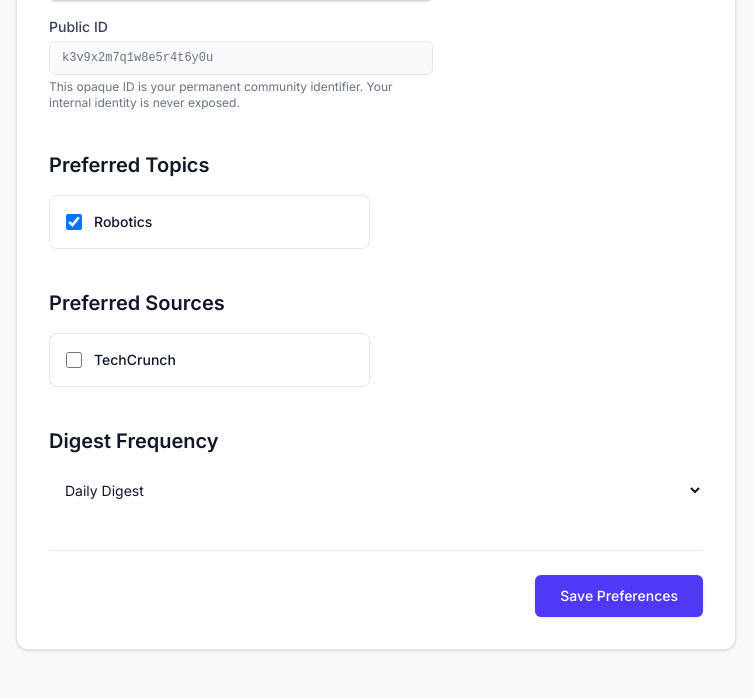
Settings community profile › saves preferences without a profile update when the display name is unchanged
The image size is (753, 698).
(page scrolled)
Expected: the heading "Preferred Topics" is shown, [49,153,210,177]
Click the button "Save Preferences". click: (619, 596)
box: [535,575,703,617]
(page scrolled)
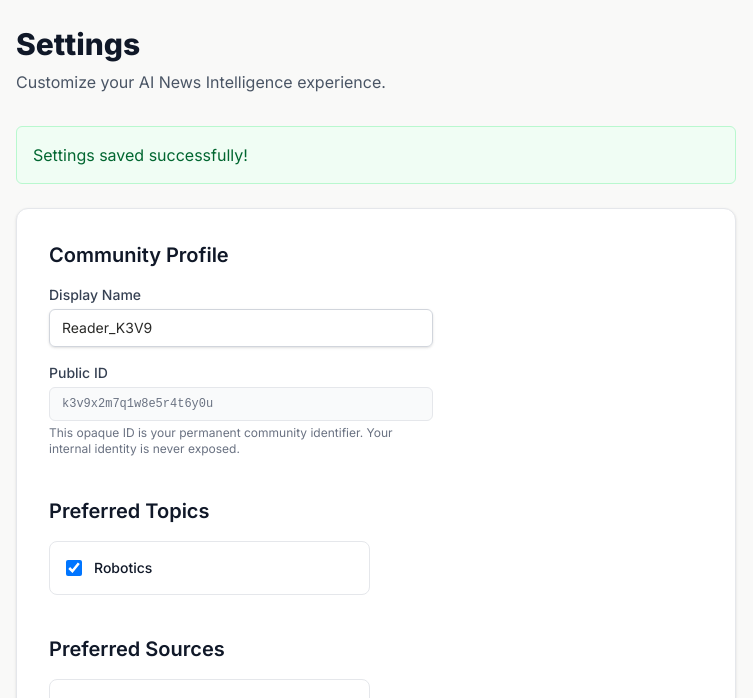
Now the text "Settings saved successfully!" is shown, box [16,126,736,184]
